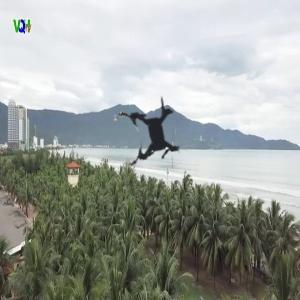drone: (90, 74, 214, 198)
